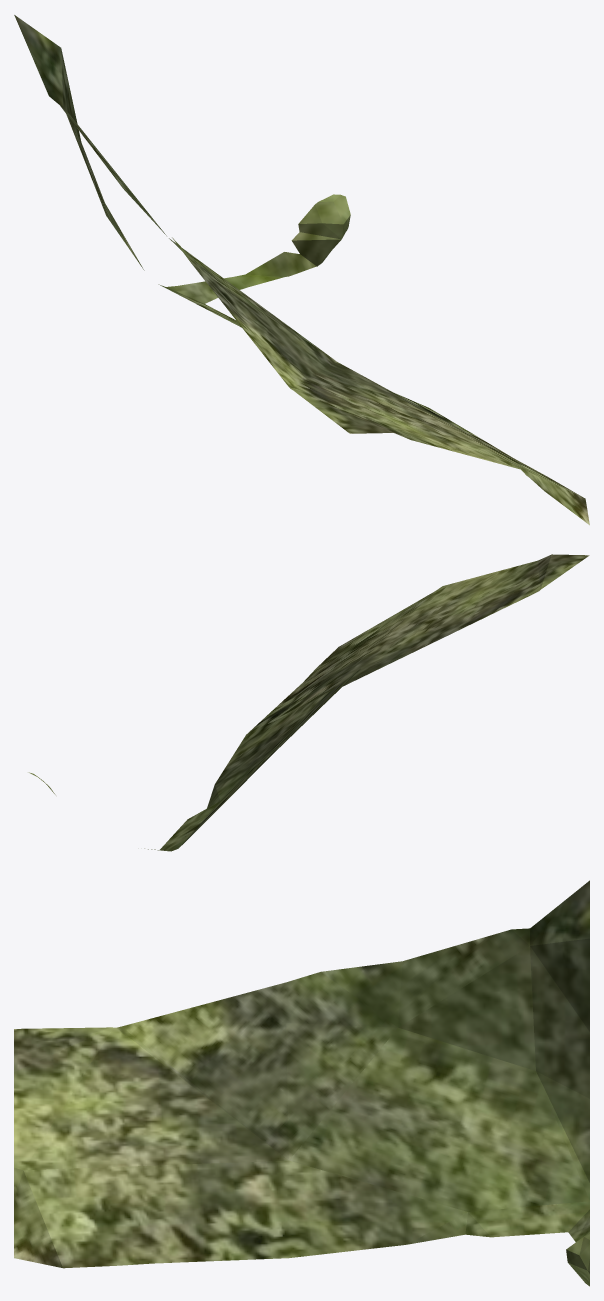
3 renders of one model, top to bottom at view 1: azimuth 30°, elevation 25°; view 2: azimuth 150°, elevation 25°; view 3: azimuth 270°, elevation 25°, orthographic. The views are drawn at different scales.
Bounding box in the file's own units: 1.7 × 1.57 × 2.95.
2 materials, 2 textured.
